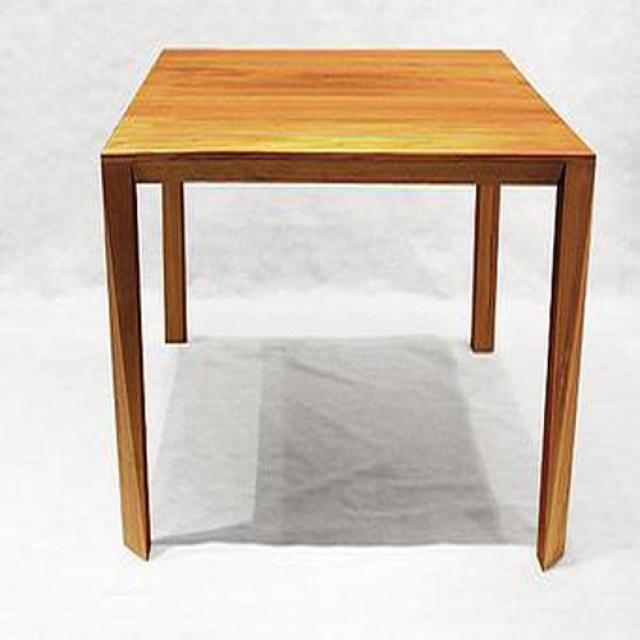table: (100, 49, 595, 571)
